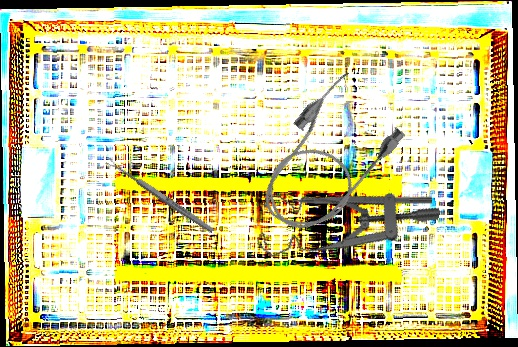Cannula: (239, 65, 414, 250)
Pusher: (275, 195, 432, 204)
Speculum: (248, 153, 442, 304)
Surgical Spoon: (105, 156, 215, 235)
